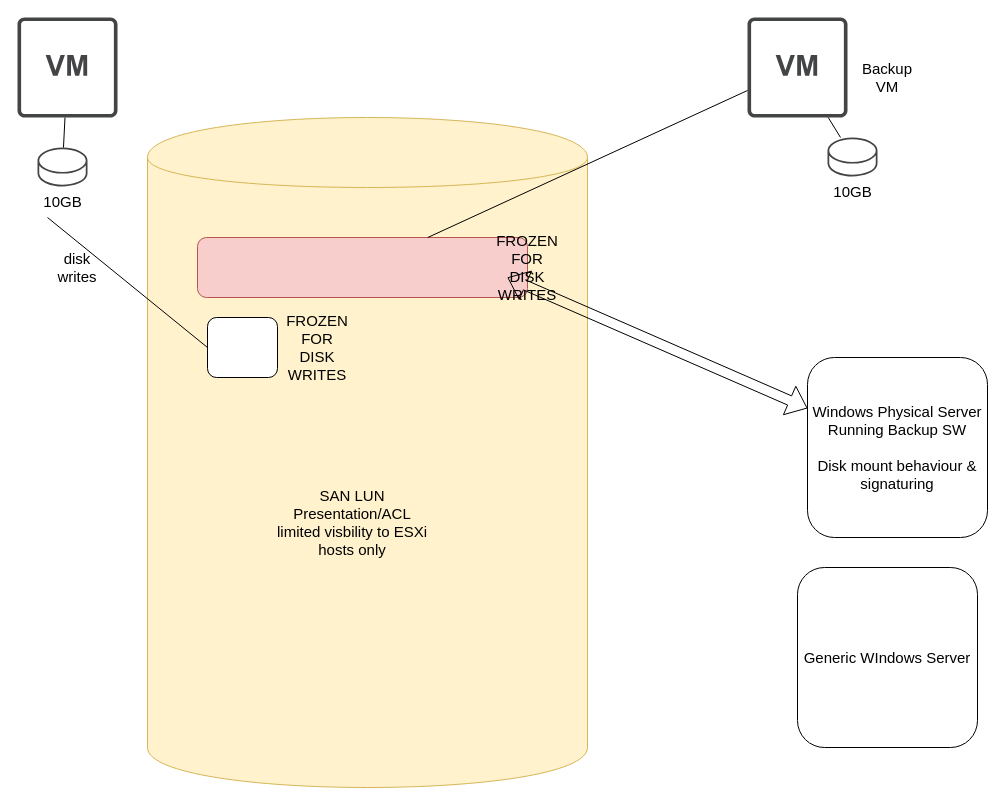
The diagram is 1005 pixels wide and 805 high, and some of its shapes have lost their labels. Here are the shapes that lost their labels. From the top down, the box of each, then its label:
(196, 236, 528, 298): vm1-flat.vmdk (10GB)
(206, 316, 278, 378): delta disk
